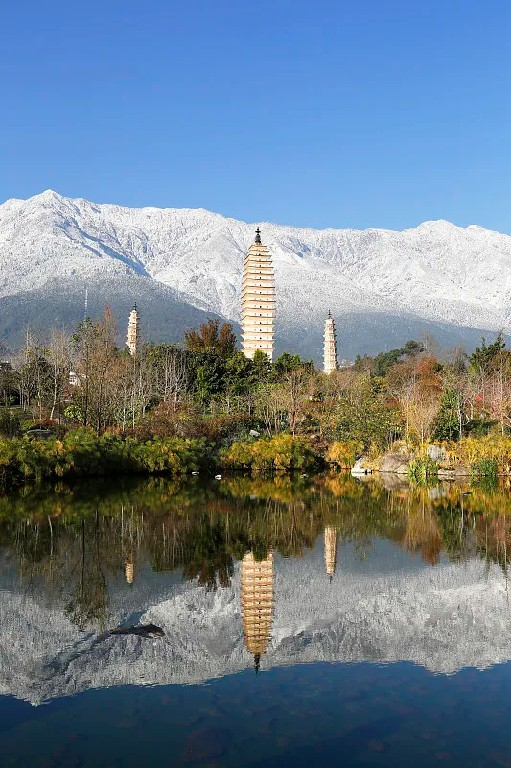ThreePagoda: (239, 227, 275, 361)
